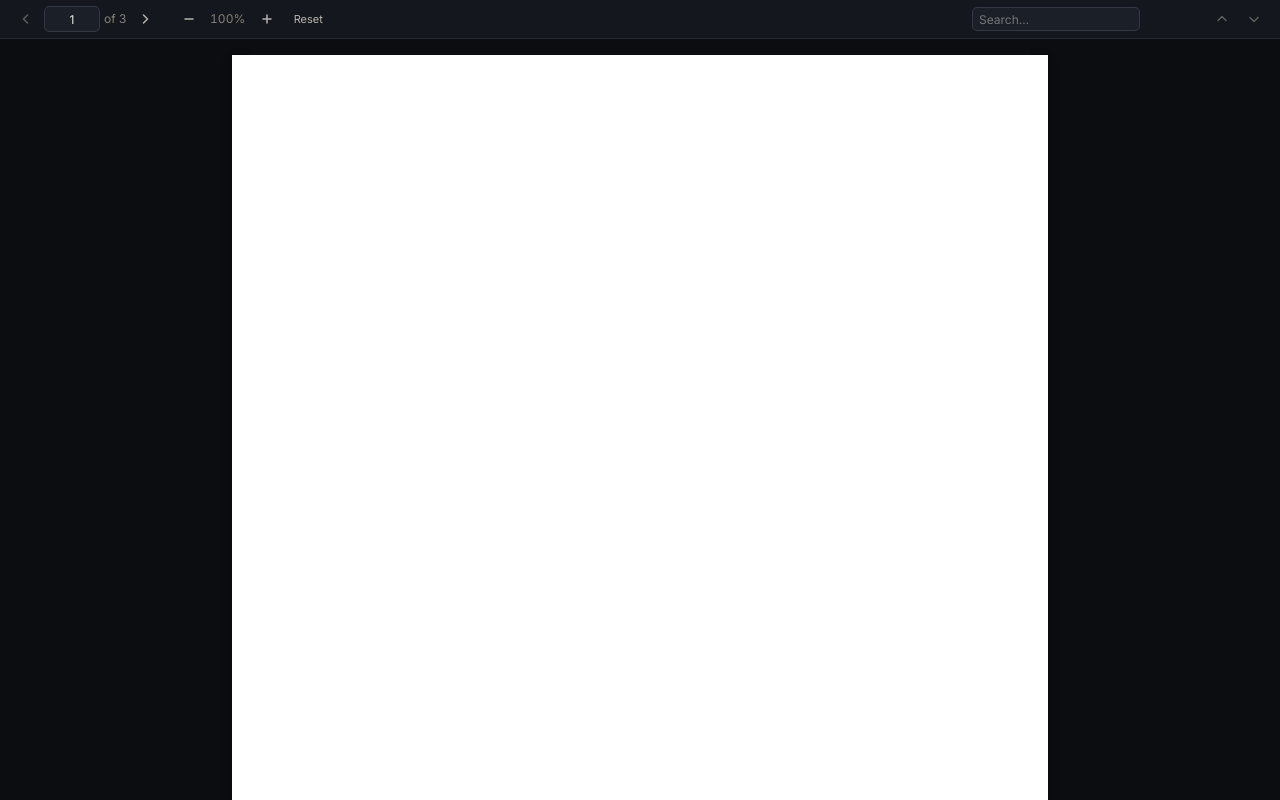
PDV-FR-YOQS: following the collection › PDV-FR-YOQS: a changed revision reads the new bytes, keeps the page, the zoom, and the search, and searches again
The image size is (1280, 800).
Click the button named "Next page". click: x=145, y=19
box: [131,7,159,31]
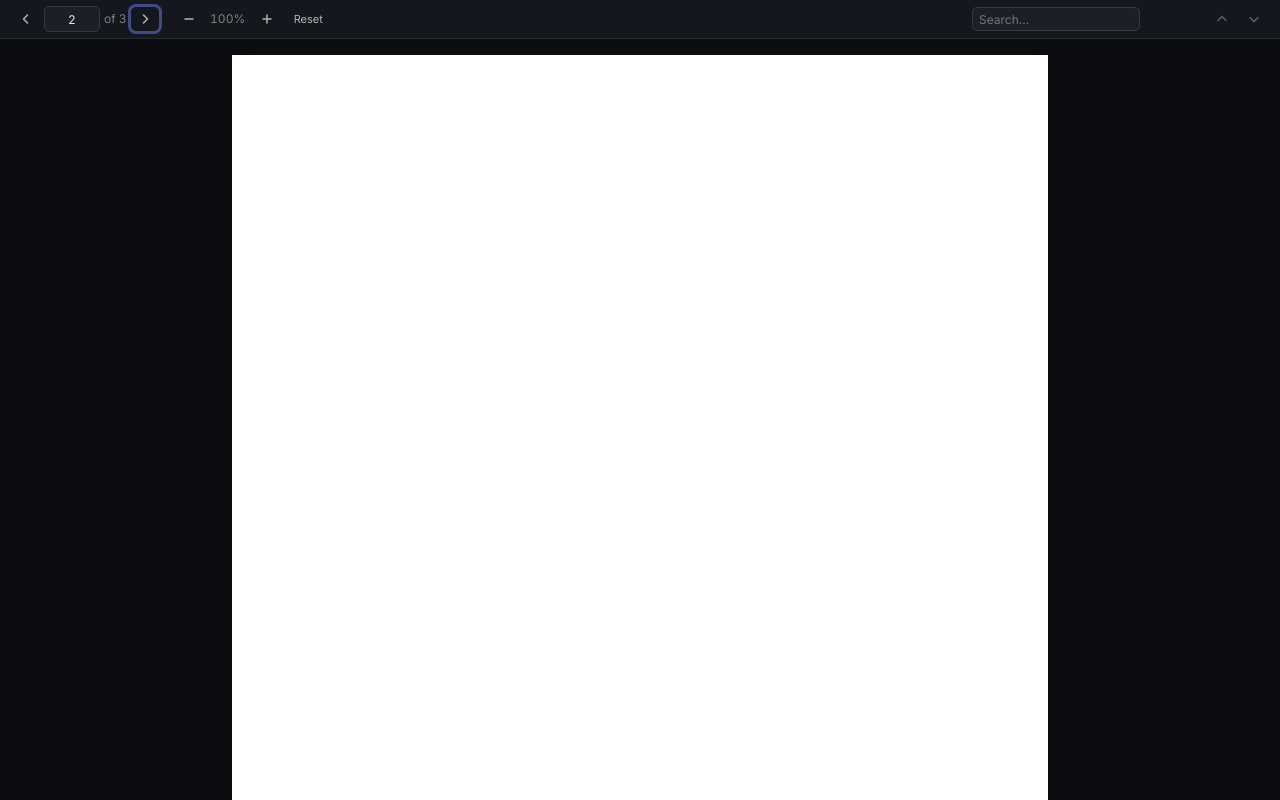
Click the button named "Zoom in". click: x=267, y=19
box: [253,7,281,31]
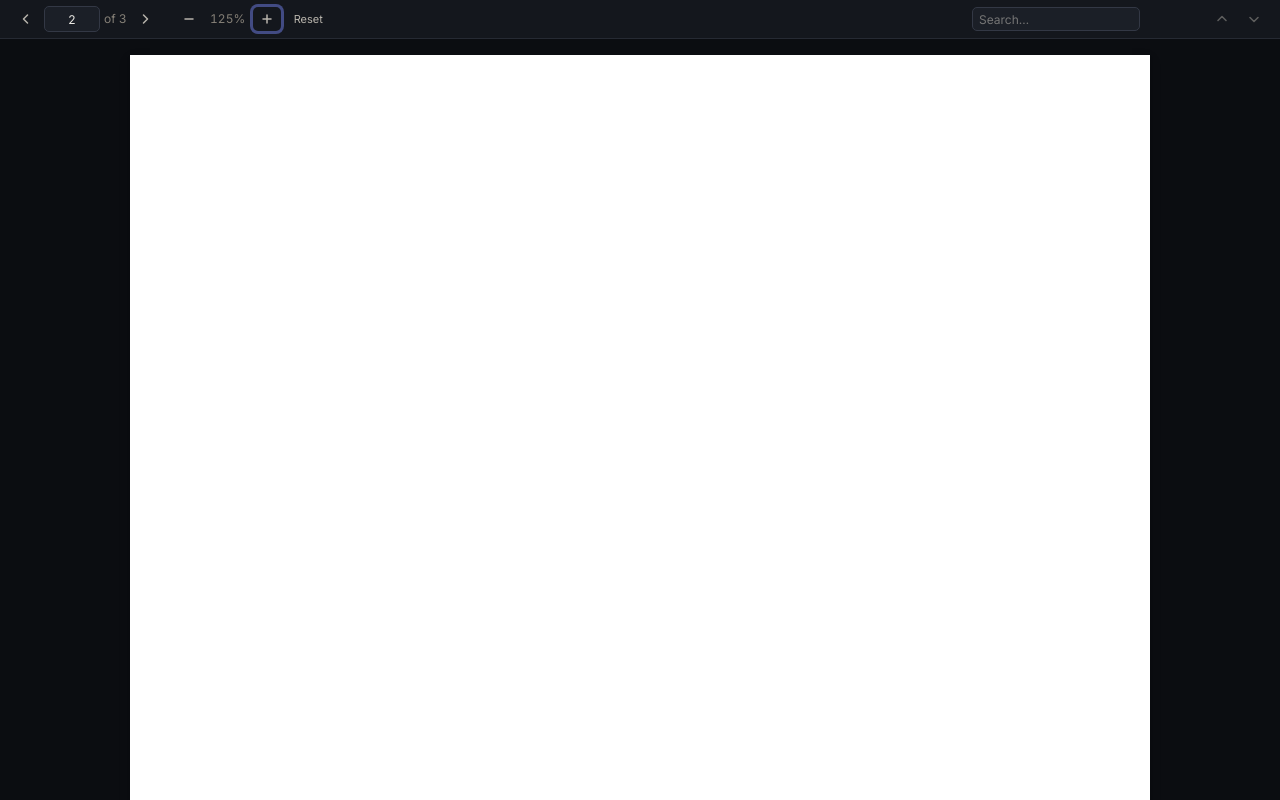
Type "page" into the search field named "Search text". click: x=1056, y=19
box: [972,7,1140,31]
(page scrolled)
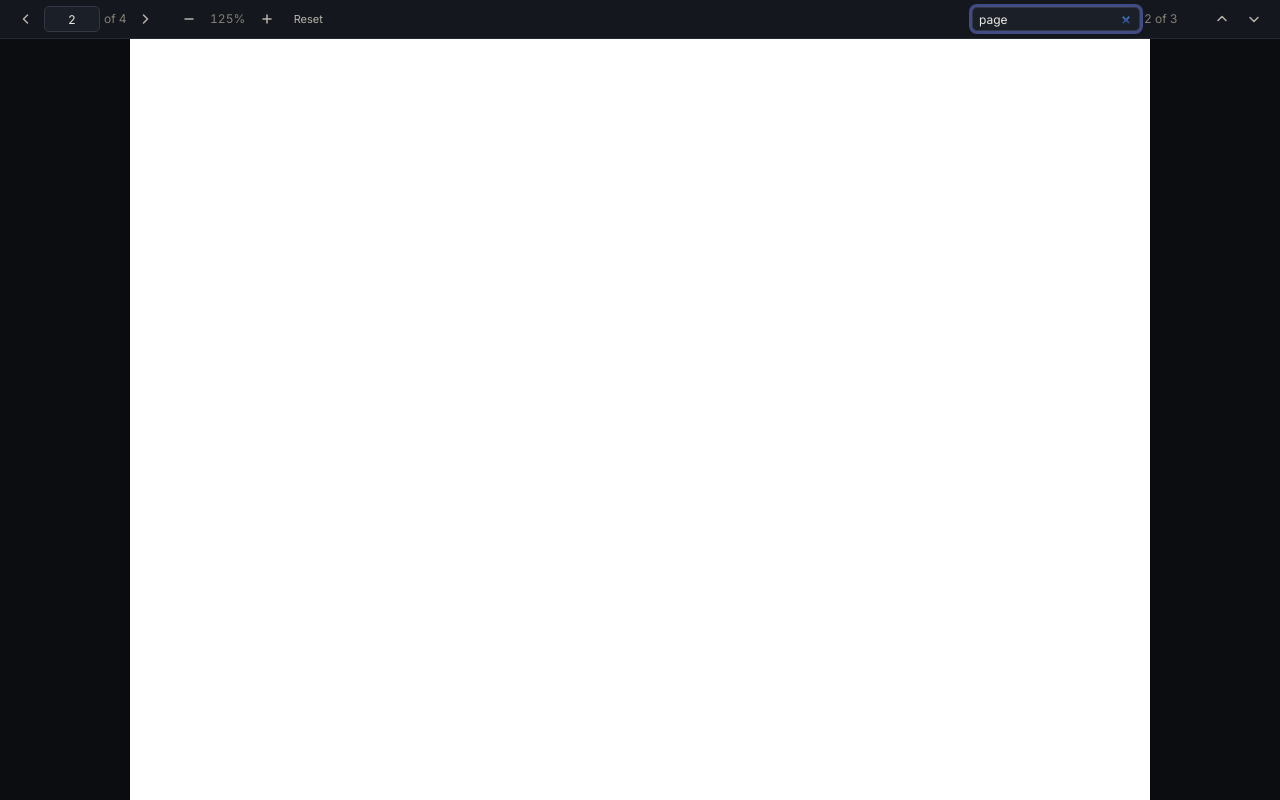
Expected: the field named "Page number" holds "2", [44,6,100,32]
Expected: the text "125%" is shown, [210,11,245,26]
Expected: the text "of 4" is shown, [104,10,127,28]
